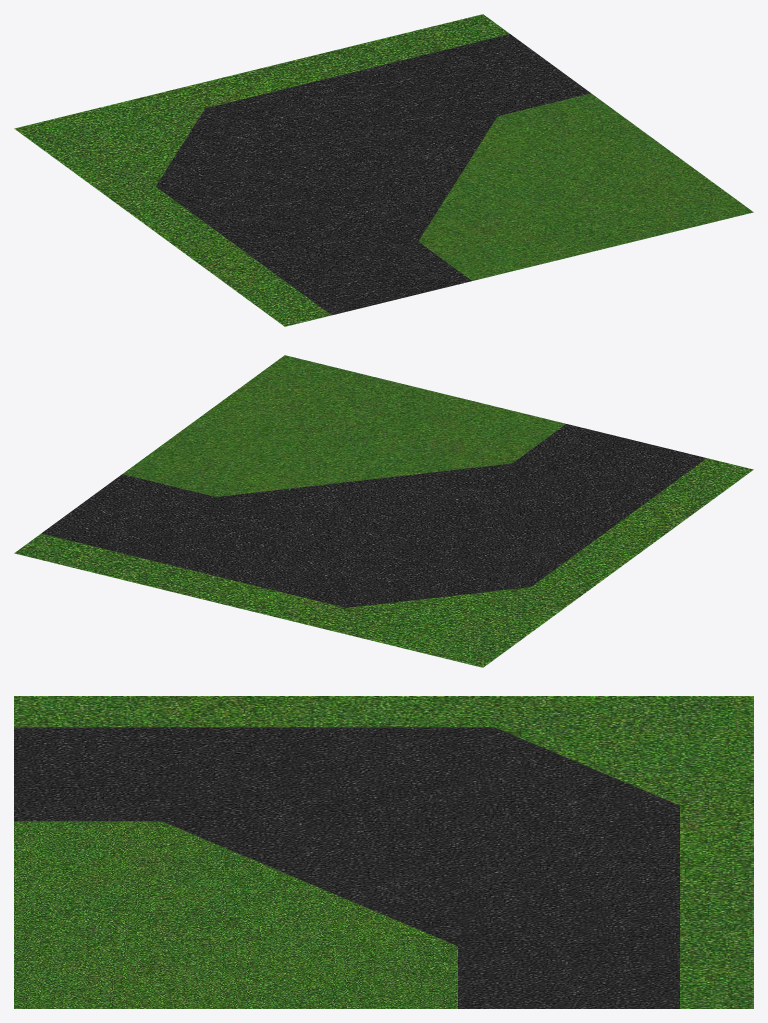
Rendered from track_turn_left_large.obj.
3 views of the same model, one above another, from view 1: azimuth 30°, elevation 25°; view 2: azimuth 150°, elevation 25°; view 3: azimuth 270°, elevation 25° (orthographic). The views are drawn at different scales.
Visible parts, largest first — view 1: road_Plane, grass1_Plane.001, Plane_Plane.002; view 2: road_Plane, grass1_Plane.001, Plane_Plane.002; view 3: road_Plane, grass1_Plane.001, Plane_Plane.002.
Part boxes in pixels (x1,y1,x2,y2): road_Plane: (156,34,590,315); grass1_Plane.001: (418,93,753,280); Plane_Plane.002: (14,14,509,326); road_Plane: (41,424,706,607); grass1_Plane.001: (123,355,565,496); Plane_Plane.002: (14,458,753,667); road_Plane: (14,727,679,1008); grass1_Plane.001: (14,821,457,1008); Plane_Plane.002: (14,696,753,1008).
Bounding box in the file's own units: 20 × 0 × 20.
